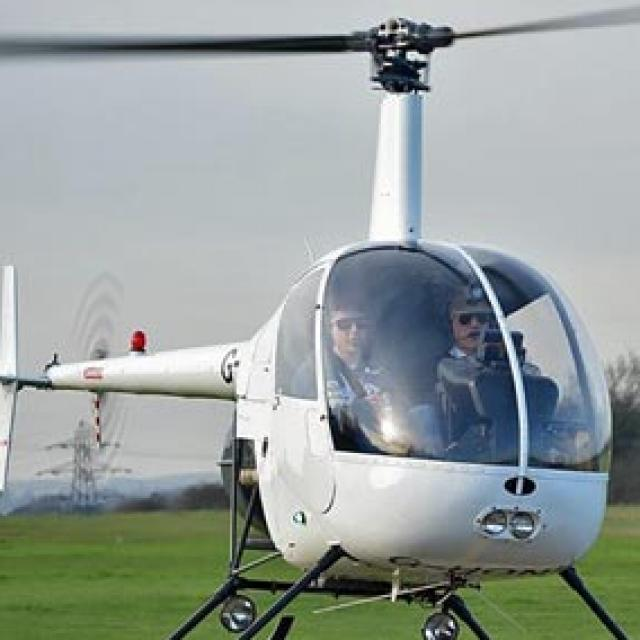helicopter: (1, 3, 640, 640)
